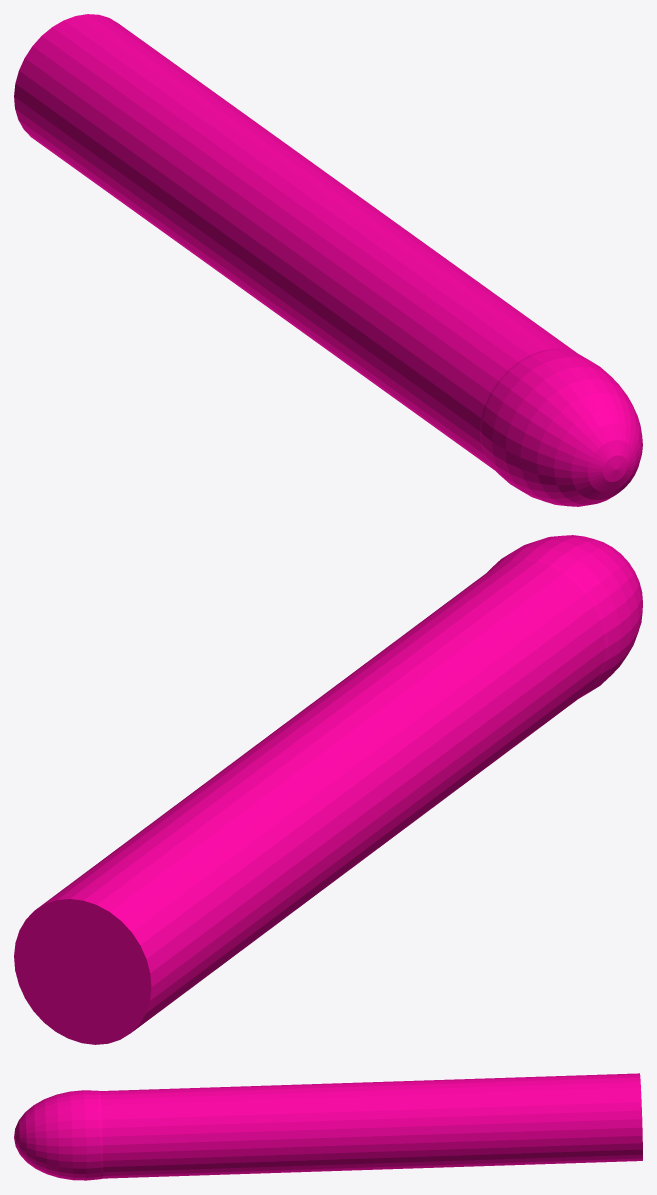
The model's file is beam.obj.
3 renders of one model, top to bottom at view 1: azimuth 30°, elevation 25°; view 2: azimuth 150°, elevation 25°; view 3: azimuth 270°, elevation 25°, orthographic. The views are drawn at different scales.
Parts seen in each view (by area): view 1: 円柱.002; view 2: 円柱.002; view 3: 円柱.002.
Boxes of the visible parts, left/top/right/bottom form: 円柱.002: left=14, top=14, right=642, bottom=506; 円柱.002: left=14, top=535, right=642, bottom=1044; 円柱.002: left=14, top=1073, right=642, bottom=1180.
Bounding box in the file's own units: 0.642 × 0.6091 × 3.79.
Materials: 1 (1 with a texture image).
